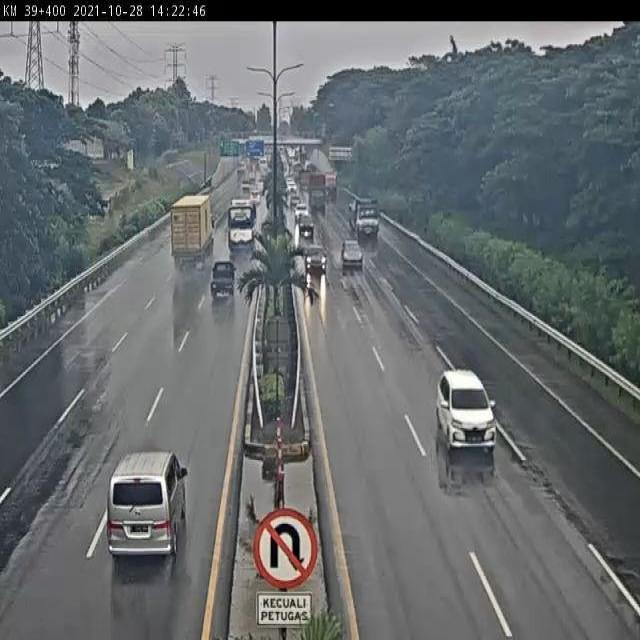ARABA: (433, 366, 502, 458), (211, 260, 237, 303)
OTOBUS: (226, 196, 260, 253)
TIR: (170, 190, 216, 266)
